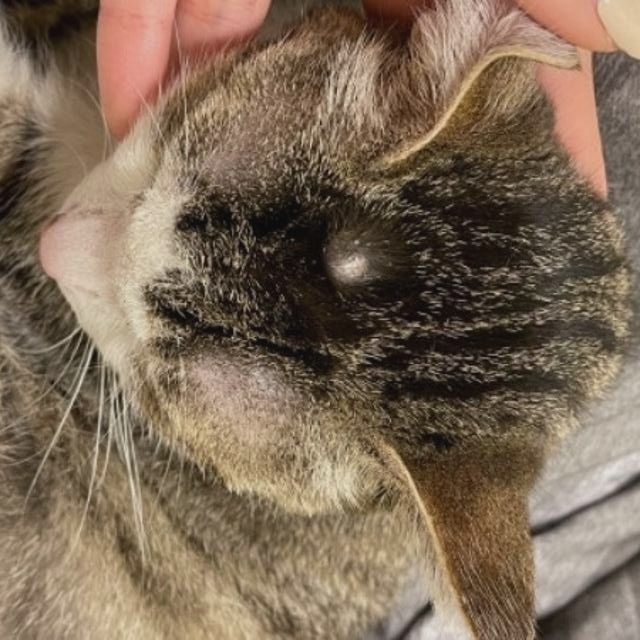lump_and_bump: (323, 242, 371, 293)
